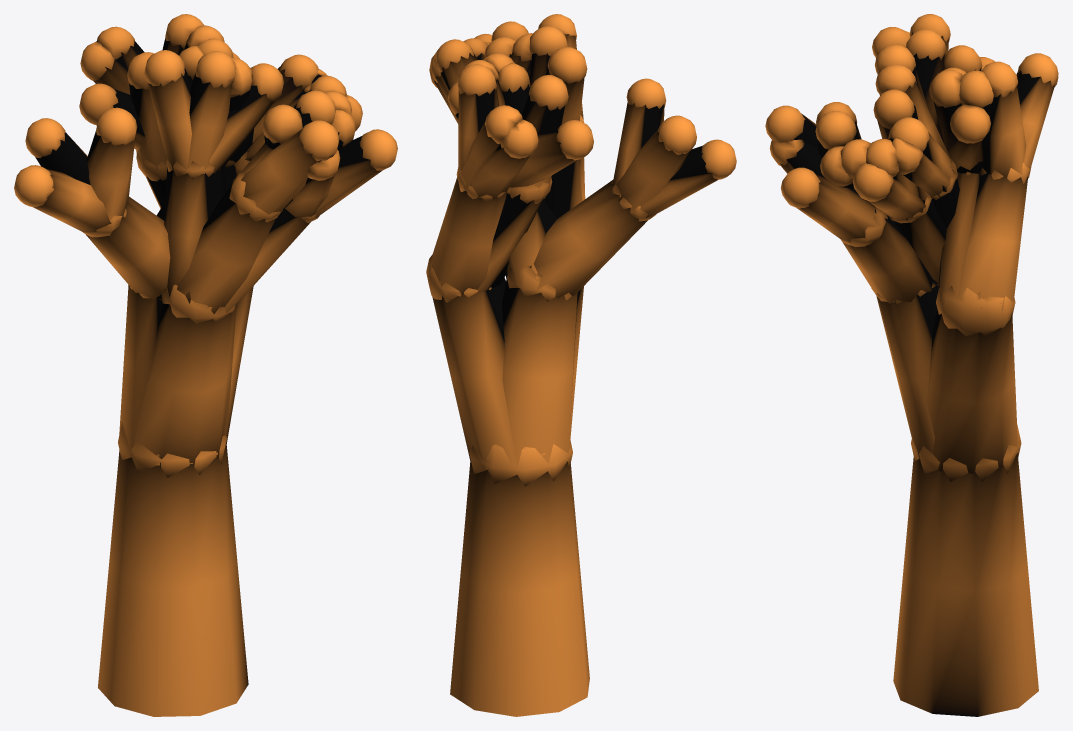
Rendered from coral_orange.glb.
3 renders of one model, left to right at view 1: azimuth 30°, elevation 25°; view 2: azimuth 150°, elevation 25°; view 3: azimuth 270°, elevation 25°, orthographic. The views are drawn at different scales.
Visible parts, largest first — view 1: coral_orange_mesh; view 2: coral_orange_mesh; view 3: coral_orange_mesh.
Part boxes in pixels (x1,y1,x2,y2): coral_orange_mesh: (14, 14, 397, 716); coral_orange_mesh: (426, 14, 736, 716); coral_orange_mesh: (765, 14, 1058, 716).
Size of the model in its own units: 0.5522 by 1.06 by 0.4373.
